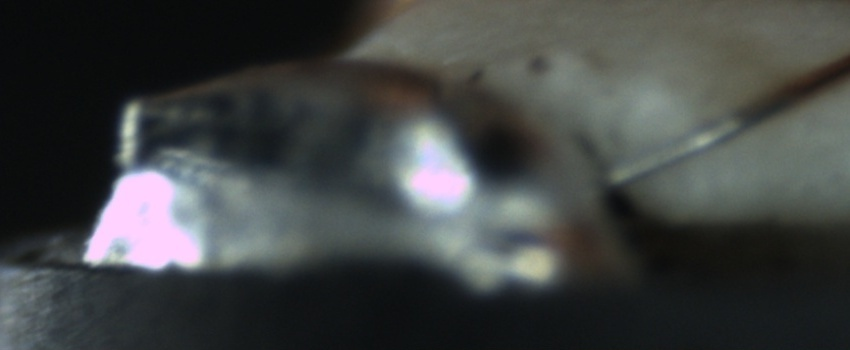TS: (603, 113, 740, 193)
